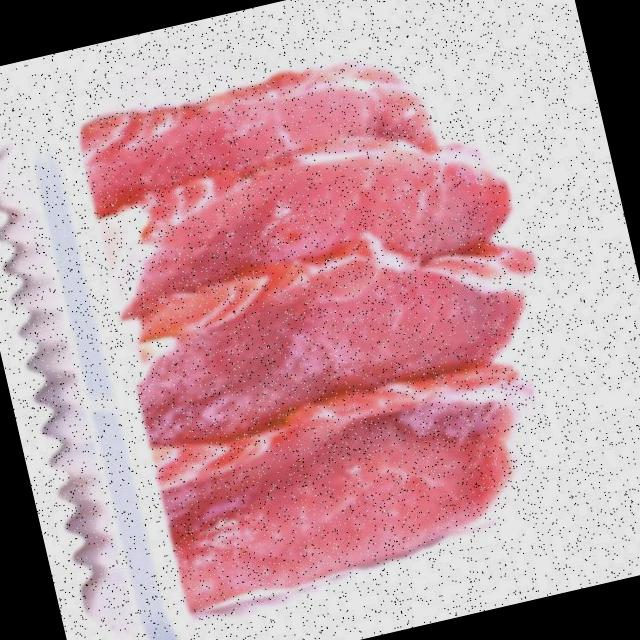pork: (115, 357, 575, 618), (78, 217, 550, 448), (68, 111, 530, 323), (46, 34, 489, 229)
